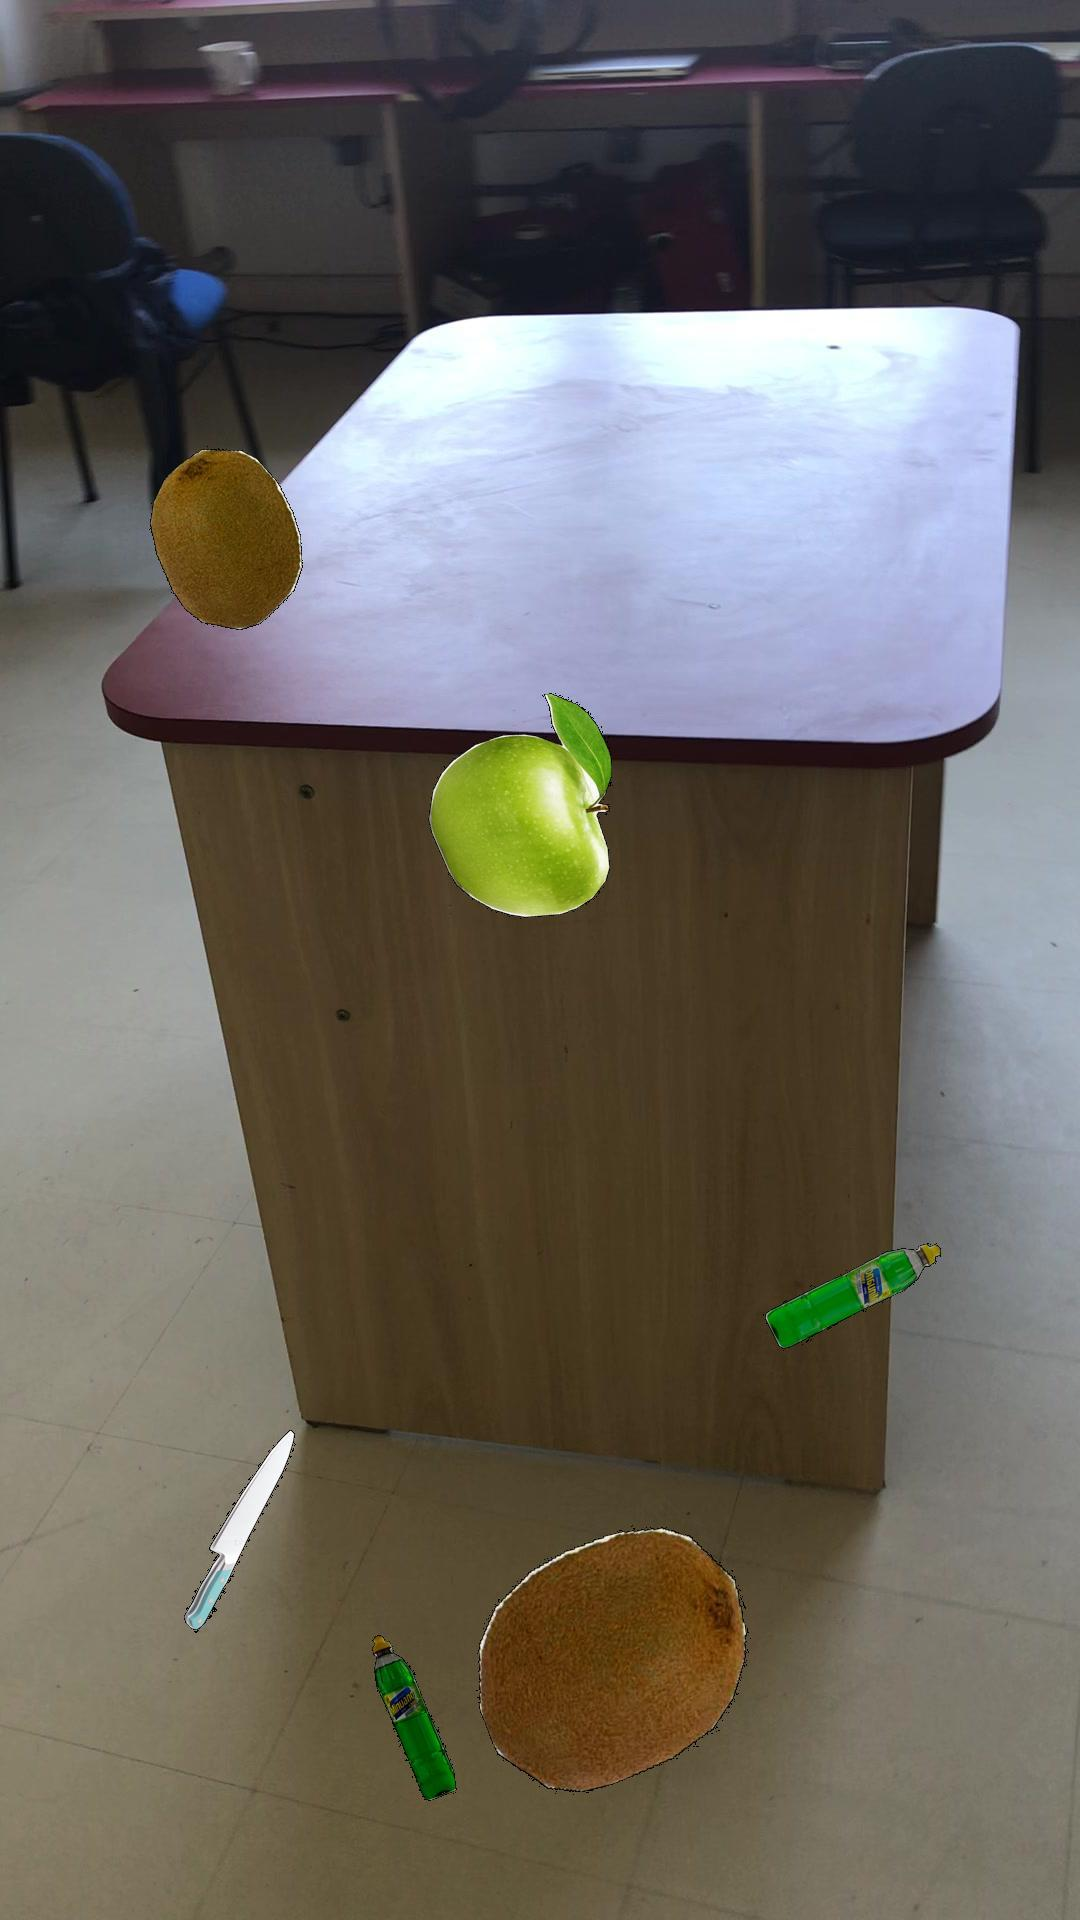cleaner: (764, 1241, 939, 1348), (371, 1634, 455, 1800)
green apple: (426, 691, 611, 916)
kiwi: (476, 1526, 745, 1791), (149, 447, 302, 629)
knife: (182, 1428, 294, 1631)
